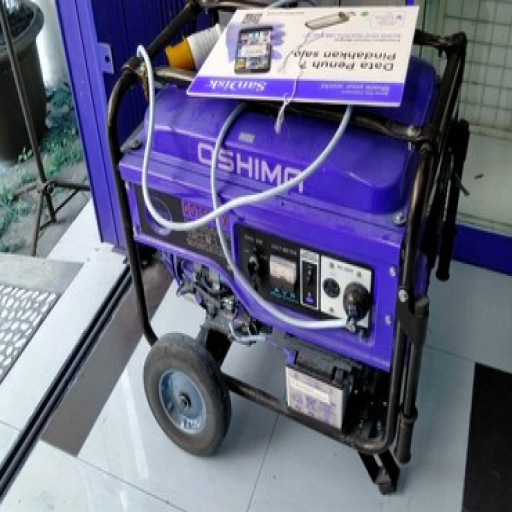portable_generator: (107, 1, 469, 453)
